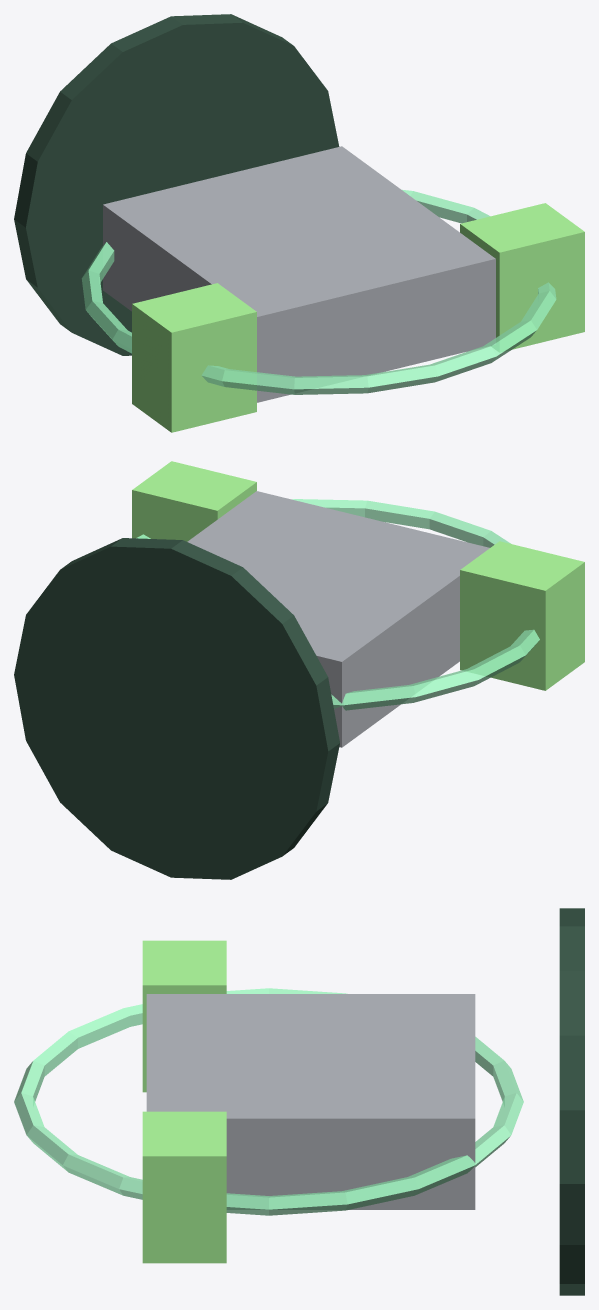
File: 05_high_tier_magic_armor_aura.glb
The picture shows the model from 3 angles, top to bottom: view 1: azimuth 30°, elevation 25°; view 2: azimuth 150°, elevation 25°; view 3: azimuth 270°, elevation 25°; orthographic projection. The views are drawn at different scales.
Visible parts, largest first — view 1: chest_plate_upgrade, armor_display_base, left_pauldron_upgrade, right_pauldron_upgrade, armor_barrier_ring; view 2: armor_display_base, chest_plate_upgrade, left_pauldron_upgrade, armor_barrier_ring, right_pauldron_upgrade; view 3: chest_plate_upgrade, armor_barrier_ring, right_pauldron_upgrade, armor_display_base, left_pauldron_upgrade.
Part boxes in pixels (x1=…): chest_plate_upgrade: x1=103, y1=146, x2=495, y2=402; armor_display_base: x1=14, y1=14, x2=339, y2=355; left_pauldron_upgrade: x1=132, y1=283, x2=256, y2=432; right_pauldron_upgrade: x1=460, y1=203, x2=584, y2=351; armor_barrier_ring: x1=81, y1=189, x2=556, y2=394; armor_display_base: x1=14, y1=538, x2=339, y2=879; chest_plate_upgrade: x1=187, y1=491, x2=489, y2=747; left_pauldron_upgrade: x1=460, y1=541, x2=584, y2=690; armor_barrier_ring: x1=136, y1=499, x2=539, y2=710; right_pauldron_upgrade: x1=132, y1=461, x2=256, y2=541; chest_plate_upgrade: x1=146, y1=994, x2=475, y2=1209; armor_barrier_ring: x1=14, y1=988, x2=523, y2=1215; right_pauldron_upgrade: x1=142, y1=1111, x2=226, y2=1263; armor_display_base: x1=559, y1=908, x2=584, y2=1295; left_pauldron_upgrade: x1=142, y1=940, x2=226, y2=1092.
Bounding box in the file's own units: 1.21 × 0.92 × 1.36.
